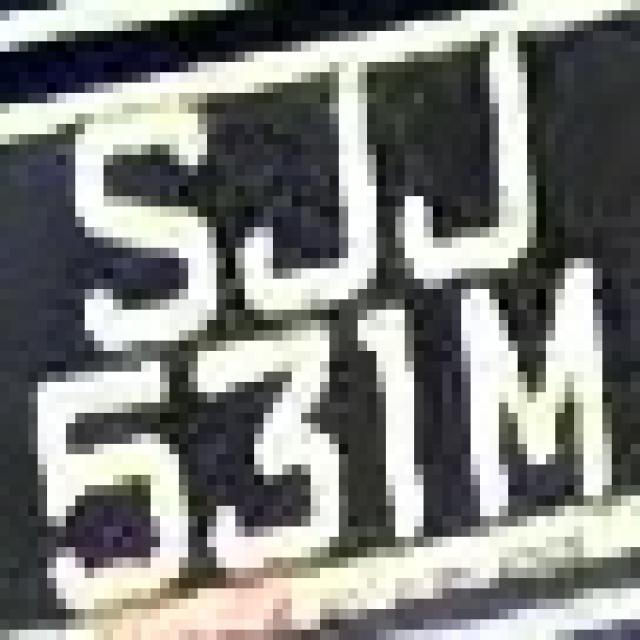1: (339, 258, 433, 568)
3: (198, 320, 367, 568)
5: (1, 6, 3, 10)
J: (207, 52, 405, 299), (386, 21, 565, 289)
M: (442, 258, 622, 547)
S: (47, 62, 245, 361)
